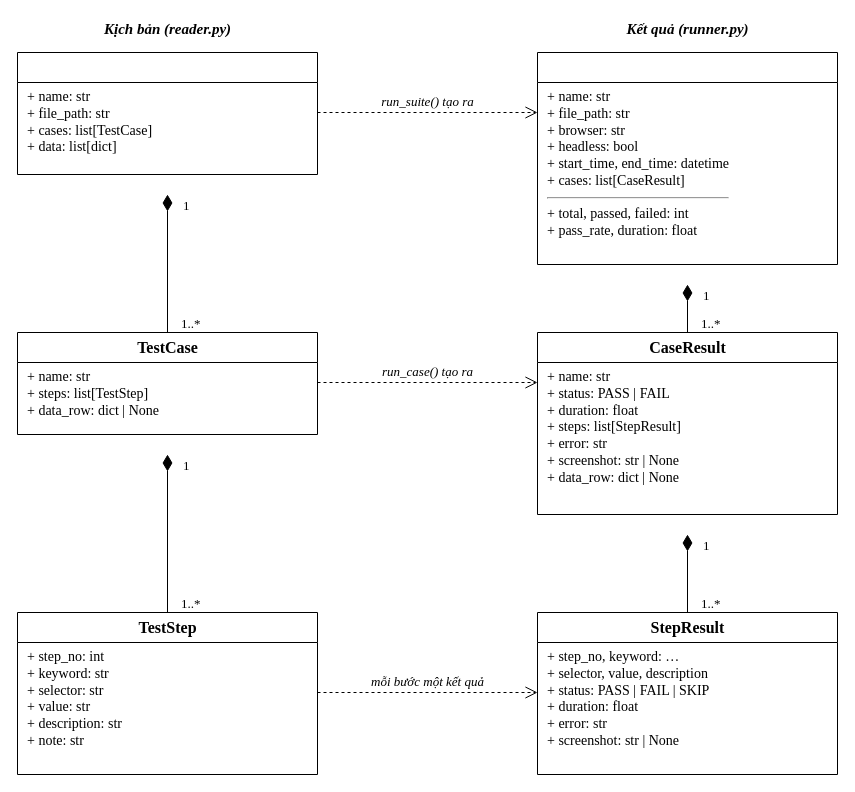
This 855x792 diagram has some shape labels left out. Here are the shapes that lost their labels. From the top down, the box of each, then its label:
(16, 52, 318, 174): TestSuite
(536, 52, 838, 264): SuiteResult
